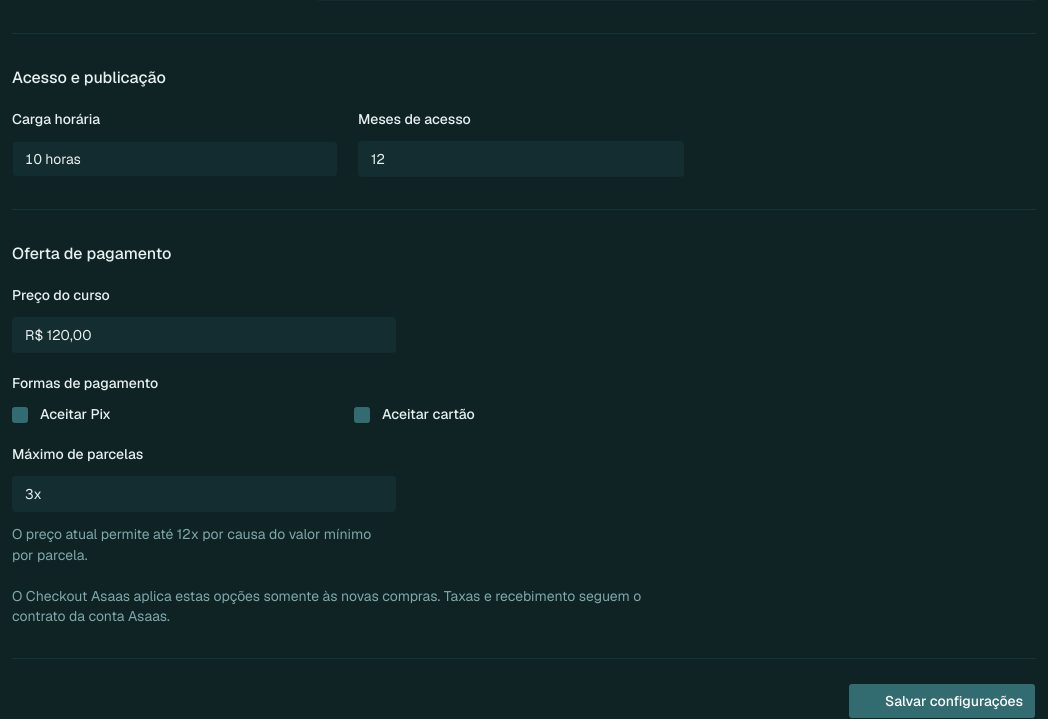
Scenario: course payment settings › limits the admin configuration to twelve installments
This screenshot has width=1048, height=719.
(page scrolled)
Click the dropdown with id "course-payment-installments".
click(29, 494)  # box x1=12 y1=476 x2=396 y2=512
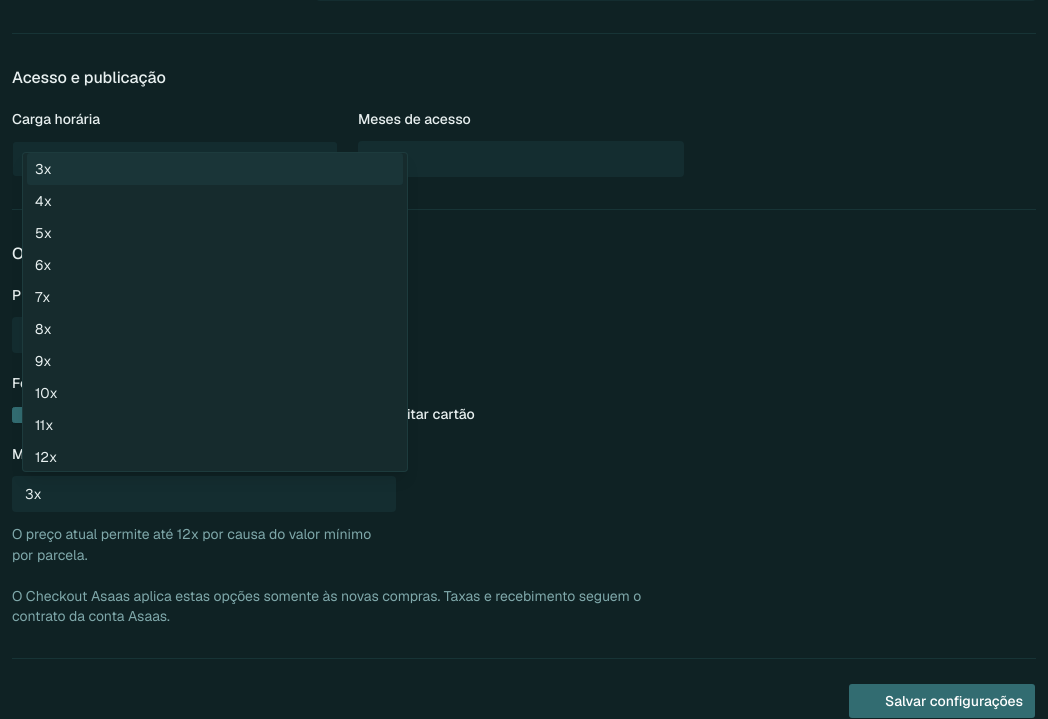
Expected: the option "12x" is shown, x1=35 y1=448 x2=57 y2=466
